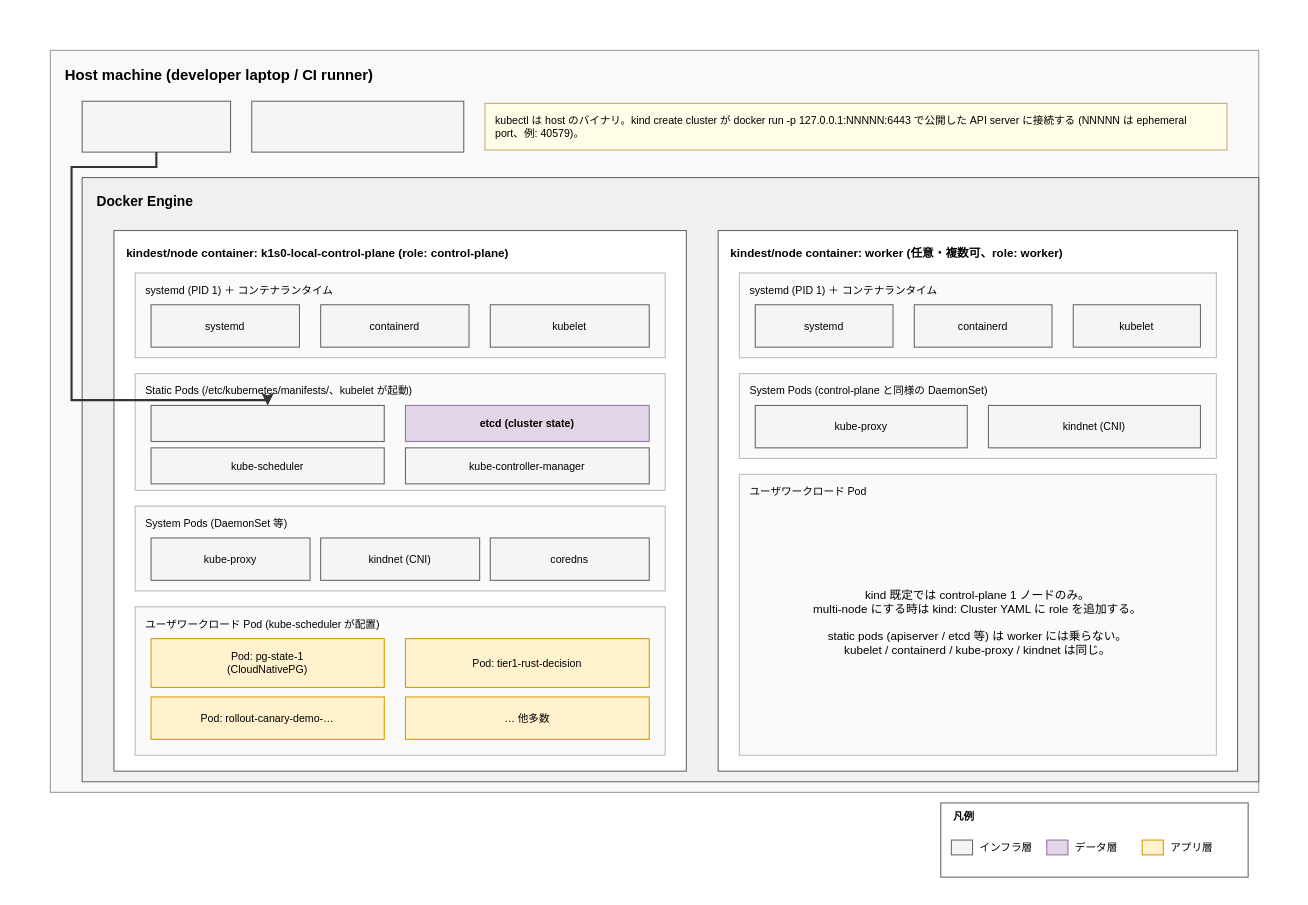
Some shapes in this 1308 by 905 pixel diagram are drawn without their labels. The centre of each missing label's shape, as x and y in pixels:
kube-apiserver: (x=267, y=422)
kubectl (host binary): (x=156, y=126)
~/.kube/config server: 127.0.0.1:NNNNN: (x=357, y=126)
